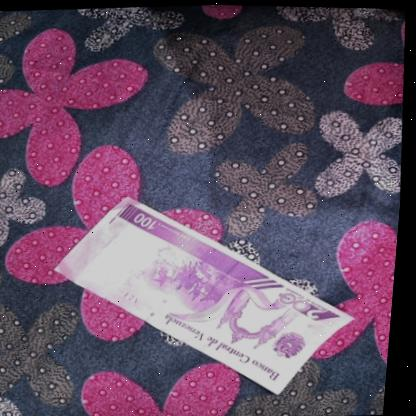one_hundred-back-vef: (44, 180, 374, 406)
